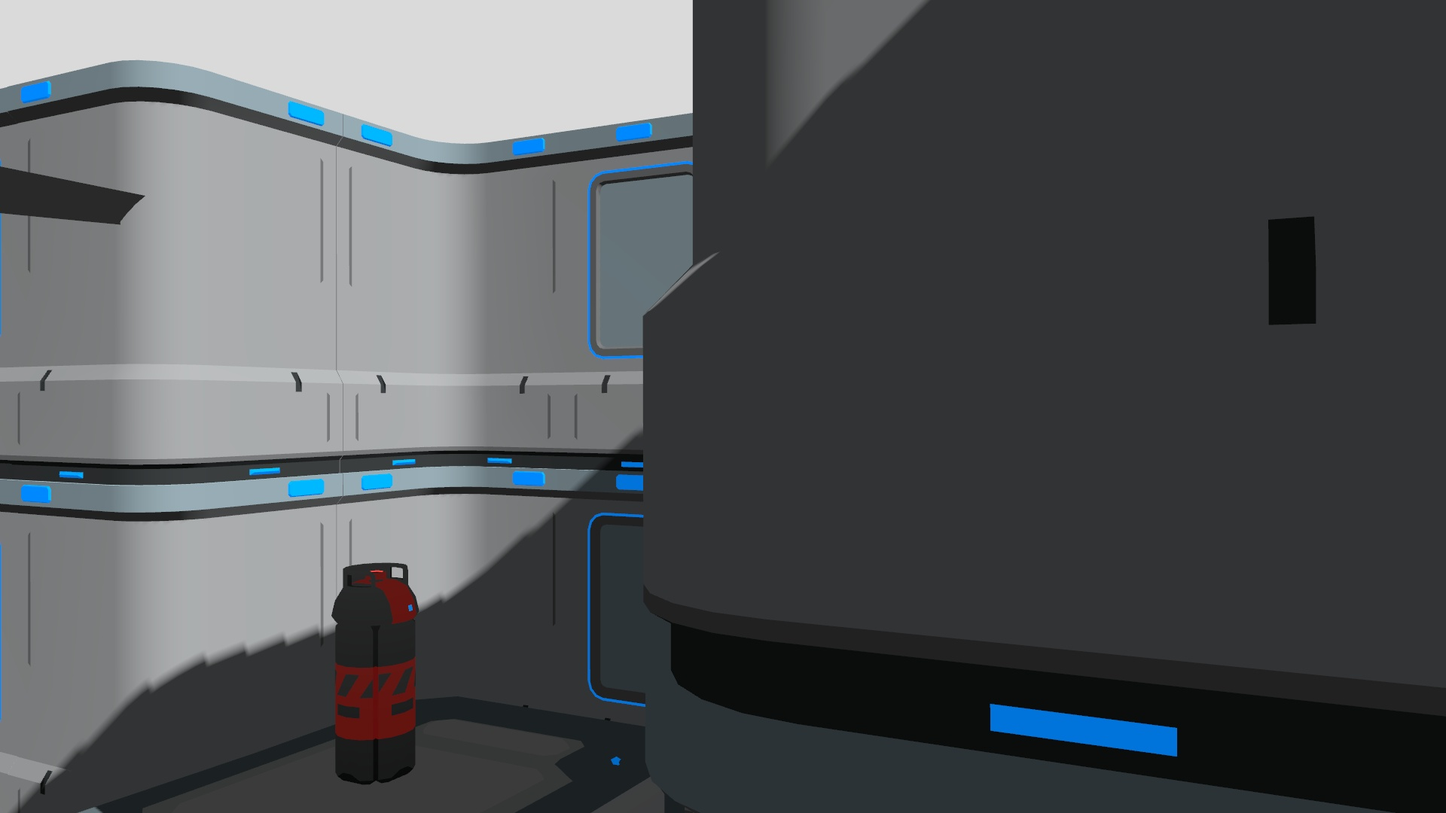red_barrel: (331, 557, 423, 793)
